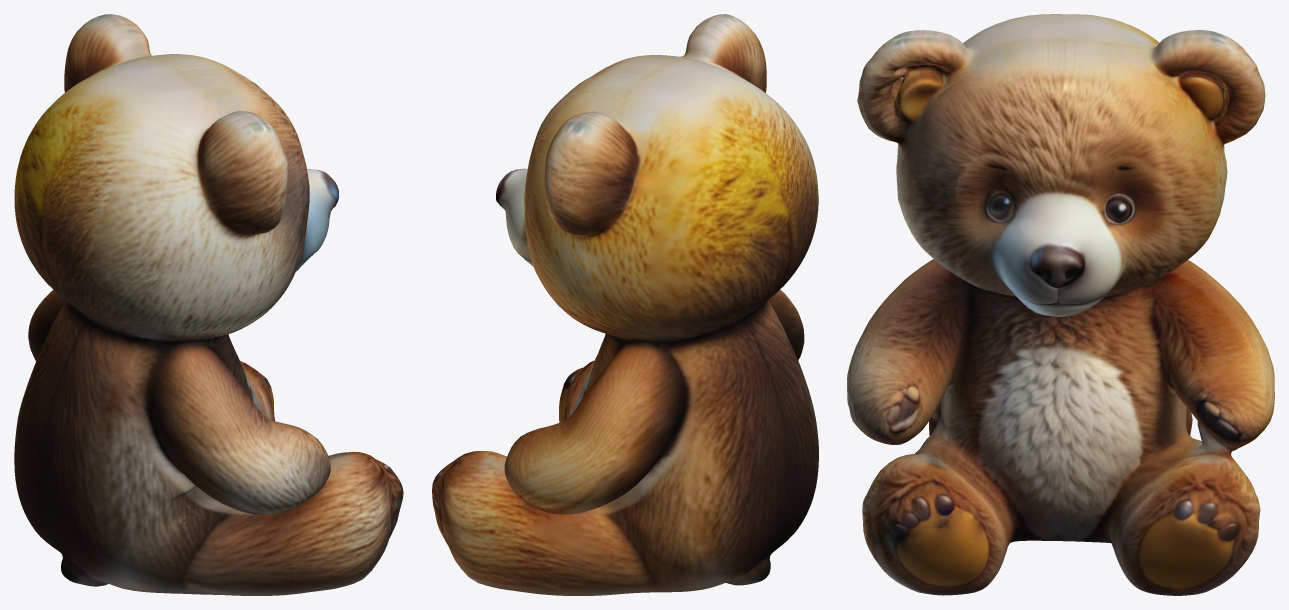
3 renders of one model, left to right at view 1: azimuth 30°, elevation 25°; view 2: azimuth 150°, elevation 25°; view 3: azimuth 270°, elevation 25°, orthographic. The views are drawn at different scales.
Parts seen in each view (by area): view 1: tripo_node_3453e122-f92b-4cfc-9c5d-80ad97036707; view 2: tripo_node_3453e122-f92b-4cfc-9c5d-80ad97036707; view 3: tripo_node_3453e122-f92b-4cfc-9c5d-80ad97036707.
Part boxes in pixels (<box>): tripo_node_3453e122-f92b-4cfc-9c5d-80ad97036707: <box>14,14,403,595</box>; tripo_node_3453e122-f92b-4cfc-9c5d-80ad97036707: <box>432,14,818,595</box>; tripo_node_3453e122-f92b-4cfc-9c5d-80ad97036707: <box>847,14,1274,595</box>.
Bounding box in the file's own units: 0.4816 × 0.7809 × 0.5873.
Materials: 1 (1 with a texture image).
